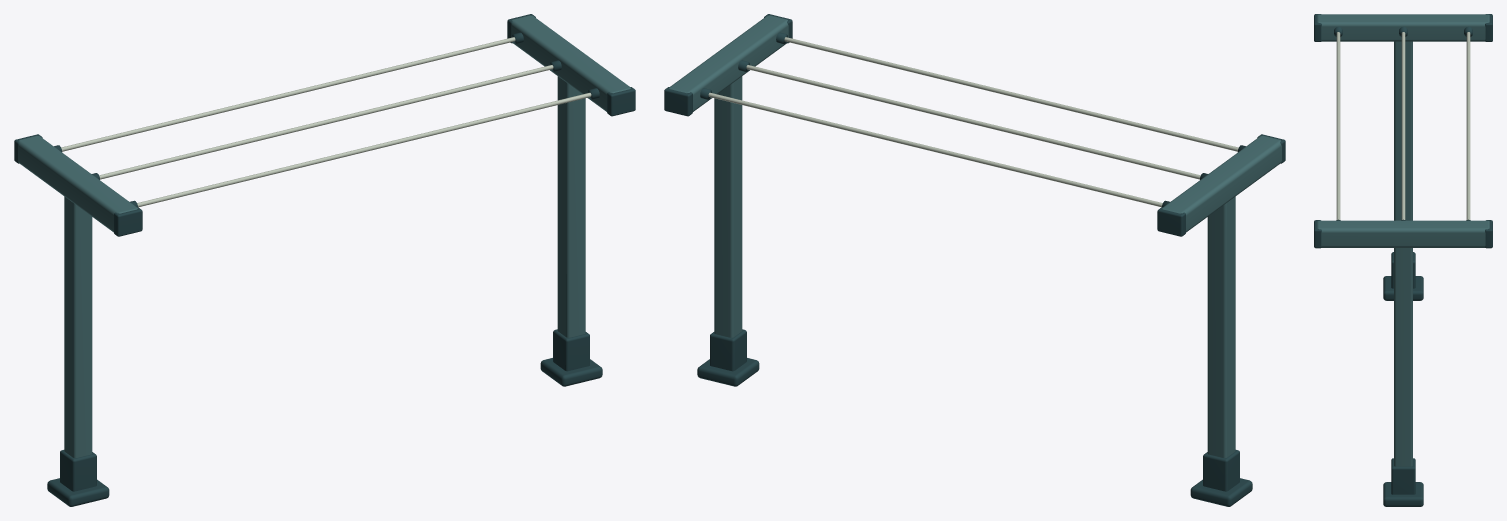
Rendered from d03_laundry_frames_01.glb.
3 renders of one model, left to right at view 1: azimuth 30°, elevation 25°; view 2: azimuth 150°, elevation 25°; view 3: azimuth 270°, elevation 25°, orthographic. The views are drawn at different scales.
Parts seen in each view (by area): view 1: D03LaundryFrames01_Mesh; view 2: D03LaundryFrames01_Mesh; view 3: D03LaundryFrames01_Mesh.
Boxes of the visible parts, x1,y1,x2,y2 form: D03LaundryFrames01_Mesh: (14, 14, 635, 506); D03LaundryFrames01_Mesh: (664, 14, 1285, 506); D03LaundryFrames01_Mesh: (1314, 14, 1492, 506).
Bounding box in the file's own units: 3.9 × 2.24 × 1.32.
